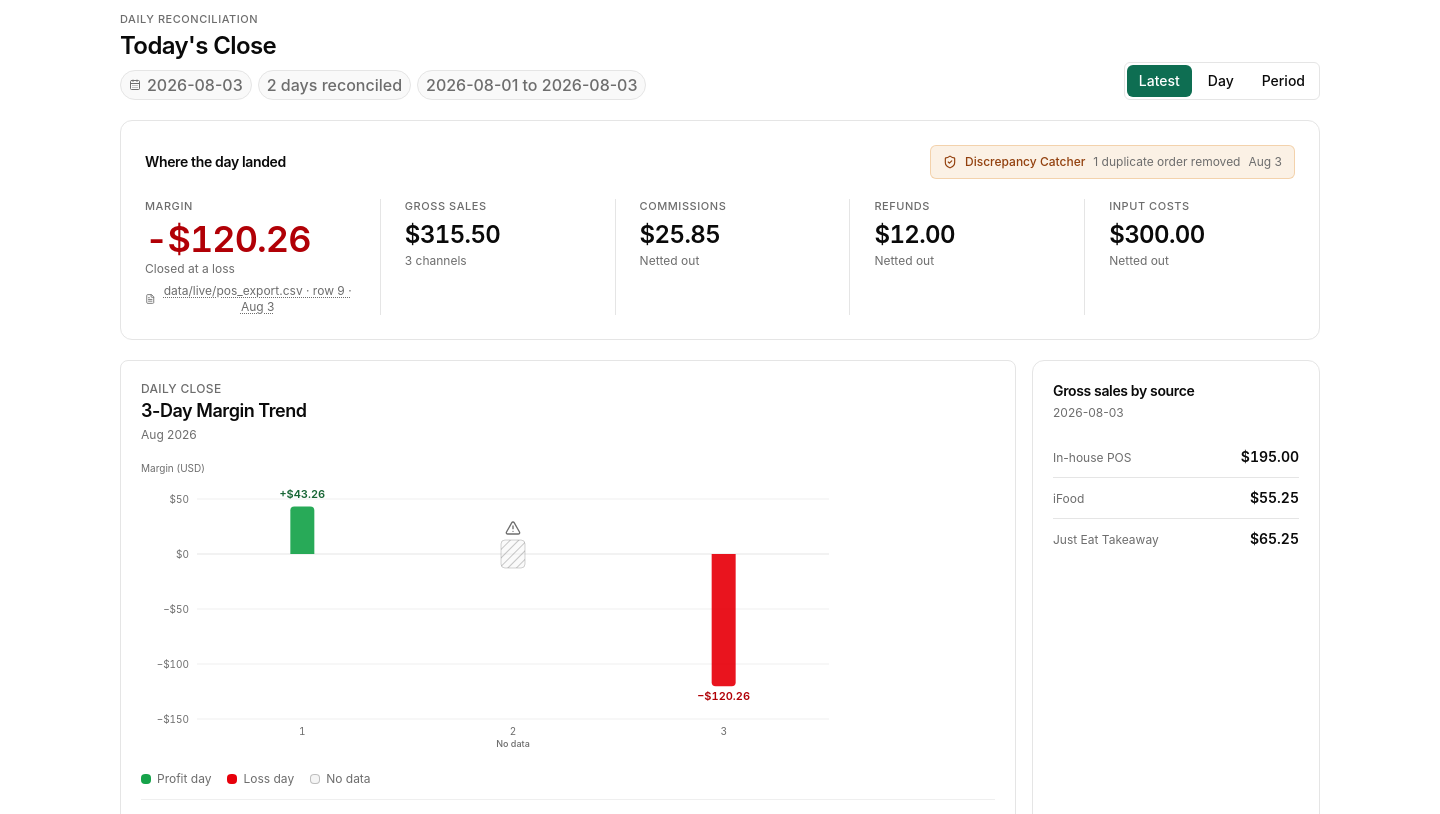
ClosePage › Period view always shows results for its current range, but requires an explicit "Show results" click to apply an edit › lets the From/To/Show-results row wrap onto multiple lines instead of overflowing
Expected: the text "-$120.26" is shown, [145,217,311,261]
Click the button "Period".
click(1283, 81)  # box [1250,65,1317,97]
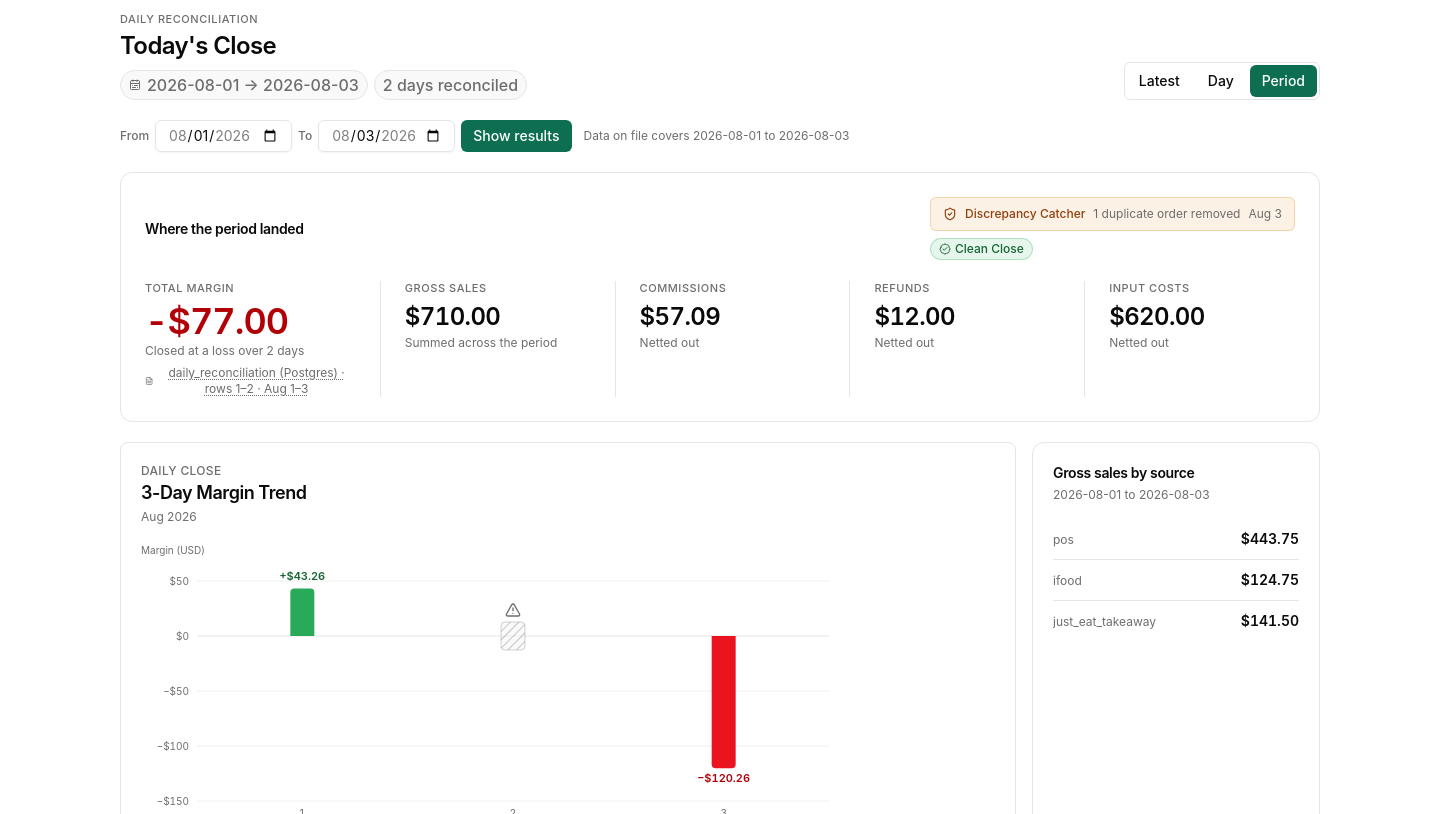
Expected: the element labelled "From" is shown, [120,120,572,152]
